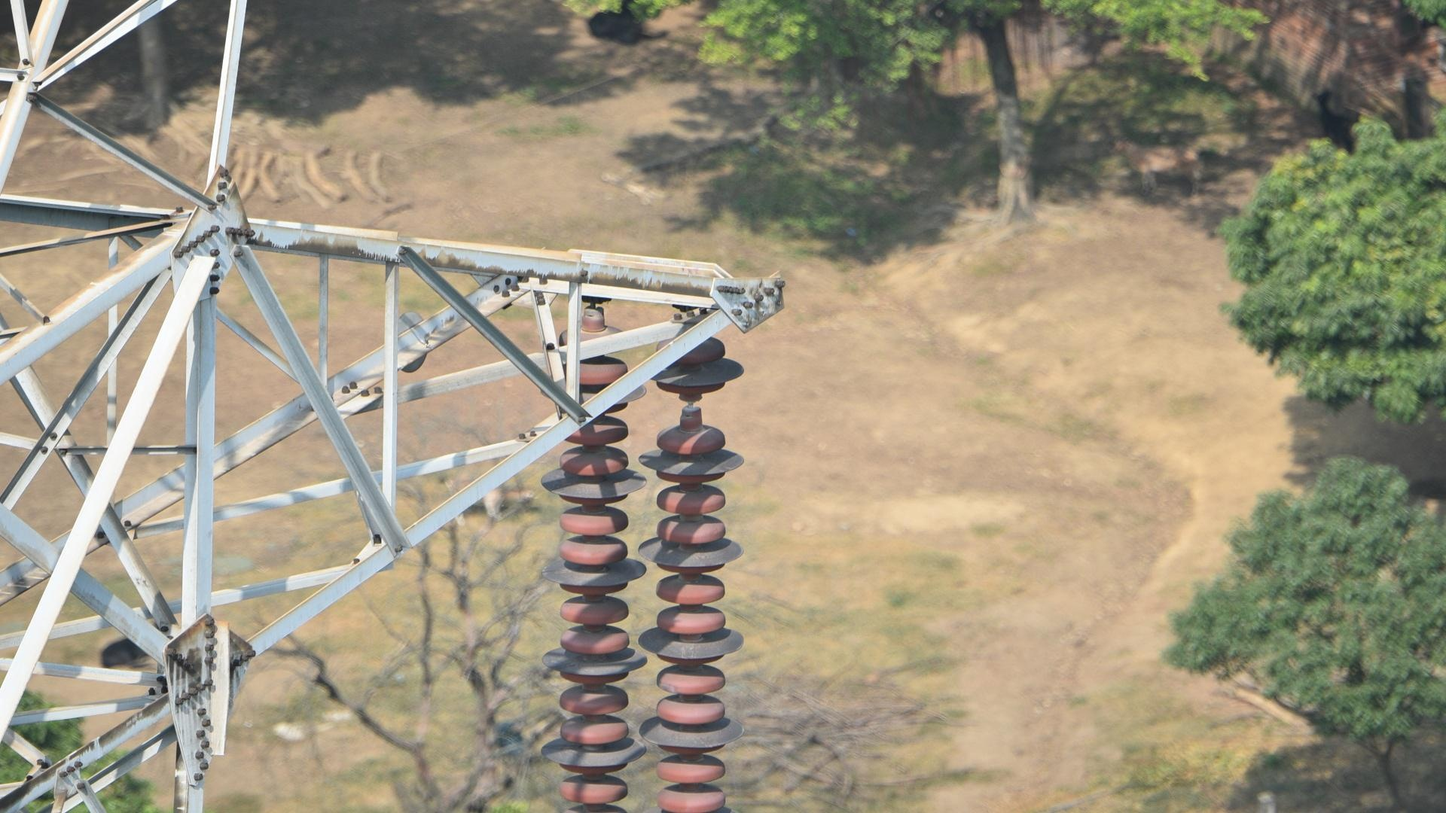insulator: (535, 315, 651, 813), (636, 324, 752, 813)
